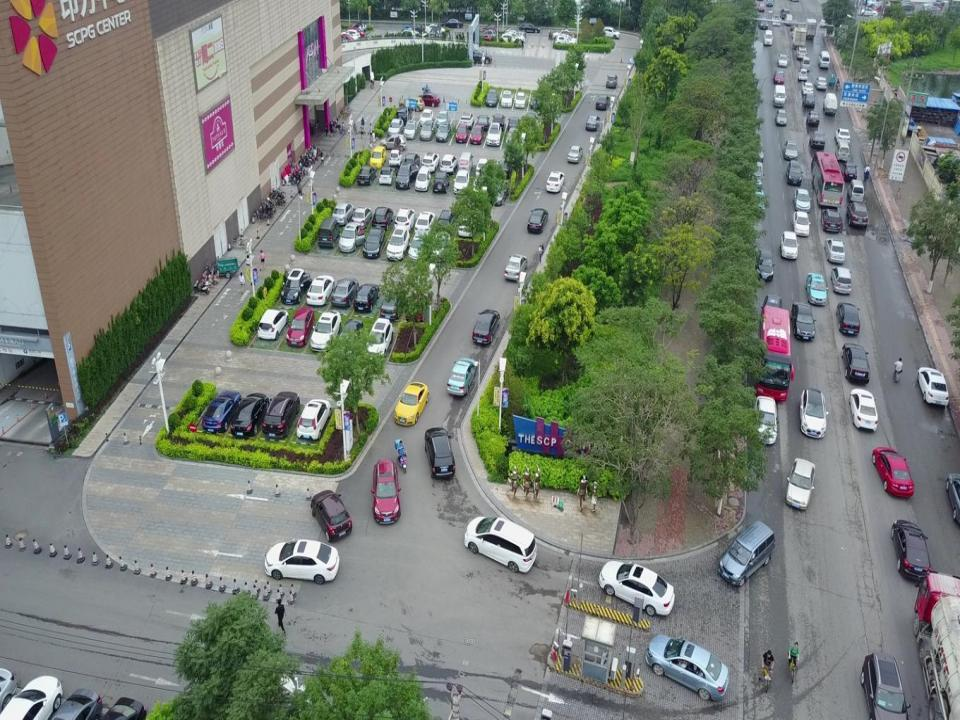bus: (754, 304, 790, 403), (812, 153, 845, 207)
car: (642, 632, 730, 701), (597, 559, 675, 620), (462, 513, 536, 577), (715, 516, 775, 586), (861, 651, 908, 720), (264, 540, 340, 582), (890, 518, 933, 582), (2, 675, 58, 720), (876, 446, 916, 501), (310, 490, 352, 538), (423, 426, 457, 481), (372, 459, 400, 524), (200, 390, 240, 434), (263, 390, 299, 438), (233, 392, 270, 438), (396, 380, 430, 428), (788, 455, 816, 513), (295, 399, 333, 441), (918, 362, 950, 408), (798, 388, 826, 439), (752, 394, 777, 446), (850, 388, 878, 434), (447, 357, 476, 400), (311, 311, 340, 352), (286, 307, 315, 347), (280, 268, 313, 303), (365, 317, 393, 358), (790, 298, 816, 341), (841, 341, 870, 379), (336, 317, 360, 356), (382, 285, 409, 319), (475, 308, 500, 344), (308, 273, 334, 307), (259, 308, 288, 338), (332, 276, 359, 308), (340, 220, 366, 253), (389, 225, 411, 262), (804, 272, 827, 306), (355, 282, 381, 312), (836, 301, 860, 332), (505, 251, 526, 282), (412, 228, 430, 264), (848, 199, 869, 227), (755, 246, 773, 278), (832, 266, 852, 294), (820, 206, 842, 231), (434, 230, 451, 262), (458, 208, 478, 235), (527, 208, 549, 232), (363, 226, 380, 257), (416, 210, 437, 235), (332, 202, 356, 223), (452, 166, 470, 194), (353, 205, 373, 230), (786, 158, 803, 186), (794, 186, 812, 212), (792, 210, 810, 235), (399, 96, 425, 113), (373, 207, 393, 229), (546, 170, 565, 193), (781, 231, 797, 258), (396, 162, 412, 189), (824, 238, 844, 259), (438, 207, 454, 233), (396, 207, 414, 230), (432, 171, 450, 194), (782, 136, 798, 161), (416, 164, 430, 192), (497, 159, 515, 180), (834, 125, 851, 146), (394, 105, 412, 124), (359, 164, 376, 184), (844, 159, 858, 182), (475, 156, 489, 179), (441, 154, 457, 174), (423, 152, 438, 173), (371, 144, 384, 168), (568, 144, 583, 164), (487, 124, 502, 144), (438, 121, 451, 143), (810, 130, 825, 149), (379, 165, 393, 185), (421, 93, 441, 106), (486, 88, 499, 108), (501, 90, 514, 110), (530, 90, 543, 110), (458, 112, 474, 128), (595, 95, 612, 110), (403, 120, 417, 138), (472, 124, 484, 145), (776, 106, 788, 126), (422, 121, 434, 141), (441, 18, 464, 28), (456, 124, 468, 143), (388, 118, 403, 133), (803, 92, 816, 109), (587, 114, 600, 131), (515, 90, 526, 110), (606, 72, 618, 90), (390, 148, 402, 166), (519, 23, 540, 33), (603, 26, 620, 38), (421, 108, 432, 126), (406, 154, 420, 168), (492, 112, 505, 127), (795, 44, 807, 60), (477, 115, 489, 131), (773, 70, 786, 84), (509, 116, 522, 130), (778, 52, 789, 68), (436, 111, 447, 127), (808, 112, 820, 126), (802, 81, 814, 95), (815, 77, 827, 90), (798, 69, 809, 82)
truck: (805, 15, 817, 39), (794, 24, 805, 48)
van: (316, 217, 340, 248), (822, 93, 838, 116), (835, 138, 850, 162), (848, 177, 863, 198), (774, 85, 787, 108), (817, 50, 831, 70), (460, 152, 473, 173), (762, 28, 774, 46), (801, 56, 812, 72)
